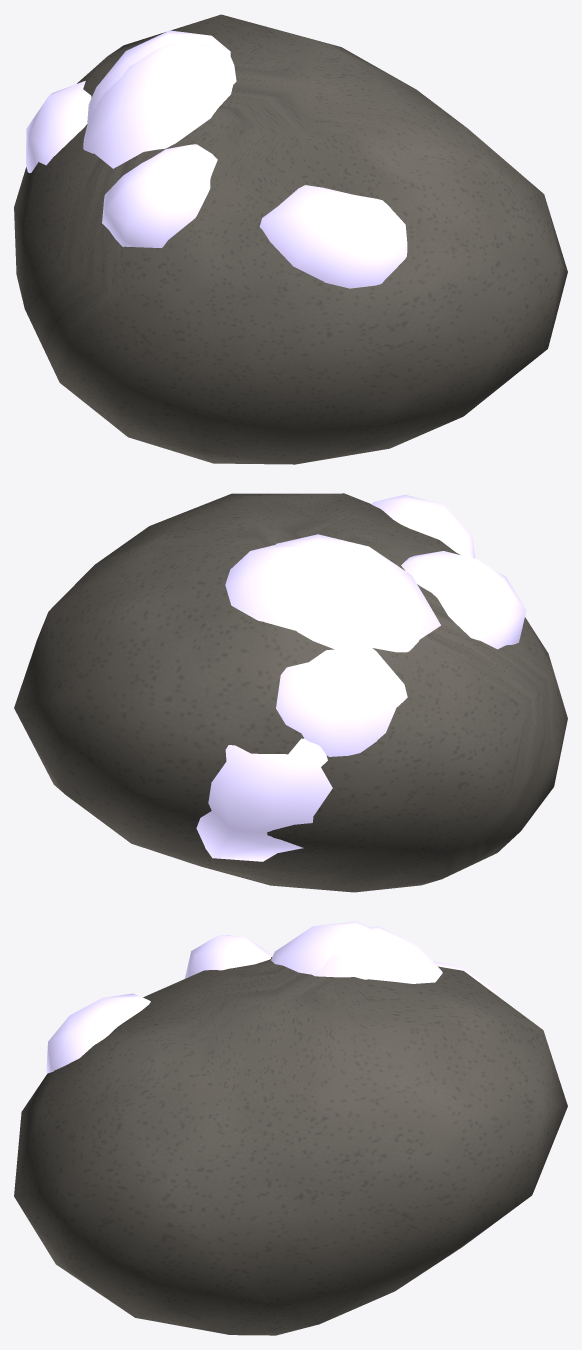
Rendered from ore_iridium.glb.
3 renders of one model, top to bottom at view 1: azimuth 30°, elevation 25°; view 2: azimuth 150°, elevation 25°; view 3: azimuth 270°, elevation 25°, orthographic. The views are drawn at different scales.
Visible parts, largest first — view 1: ore_iridium; view 2: ore_iridium; view 3: ore_iridium.
Boxes of the visible parts, left/top/right/bottom form: ore_iridium: left=14, top=14, right=567, bottom=464; ore_iridium: left=14, top=493, right=567, bottom=892; ore_iridium: left=14, top=921, right=567, bottom=1335.
Size of the model in its own units: 0.17 by 0.1304 by 0.1876.
2 materials, 1 textured.
